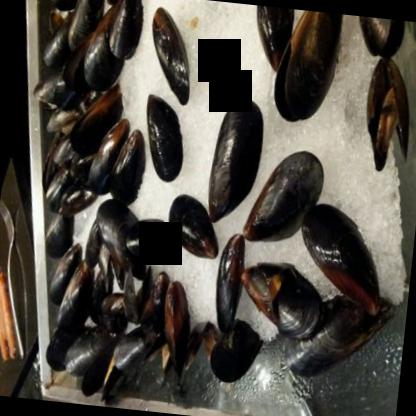mussel: (291, 188, 392, 308), (281, 287, 400, 387), (228, 255, 334, 349), (195, 93, 268, 226), (267, 8, 342, 120), (244, 145, 324, 244), (141, 5, 202, 106), (209, 229, 254, 342), (164, 194, 225, 265), (136, 96, 188, 172)
